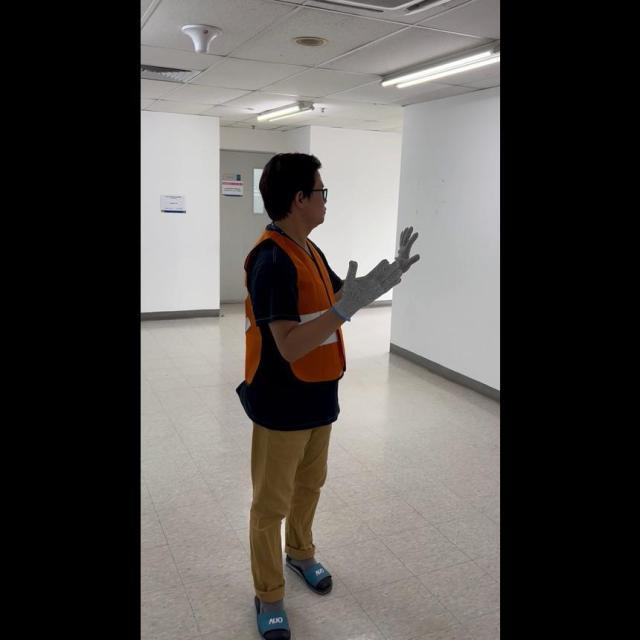gloved_hand: (330, 250, 408, 318), (388, 222, 418, 275)
